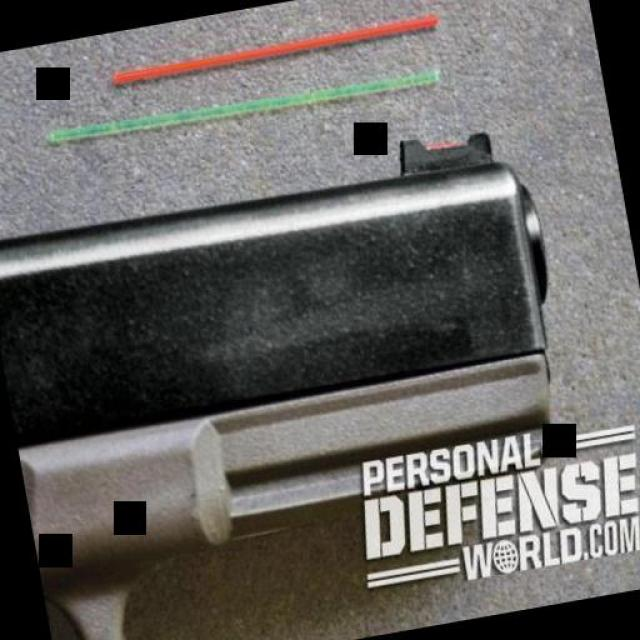gun: (0, 91, 610, 640)
